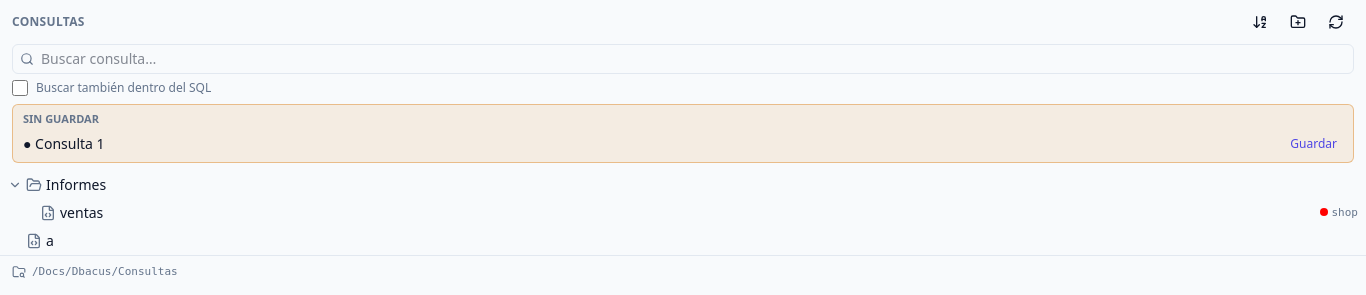
Test case: QueriesPanel › muestra lo que está abierto y sin guardar, y busca por contenido con debounce
Expected: the element with test id "queries-unsaved" shows "Consulta 1", [23, 134, 1280, 154]
Type "total" into the search field with test id "queries-search".
click(683, 59); type("total")  # box [12, 44, 1354, 74]
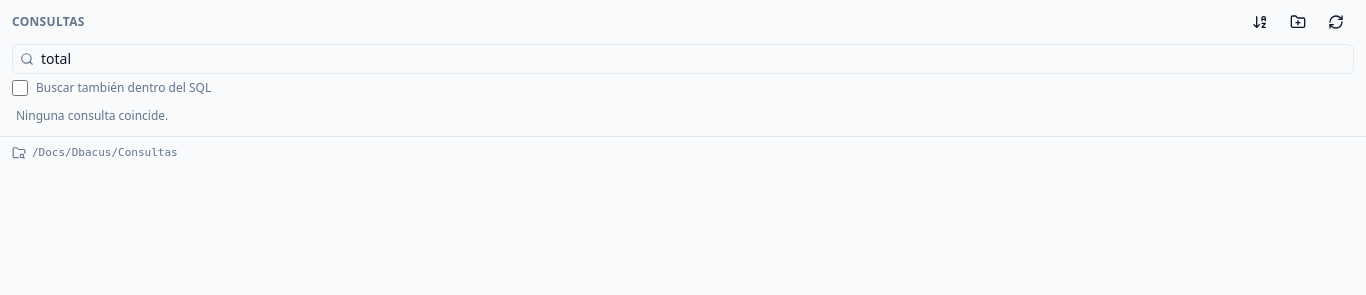
Click the checkbox labelled "Buscar también dentro del SQL".
click(20, 88)  # box [12, 80, 28, 96]
Wait 300 ms
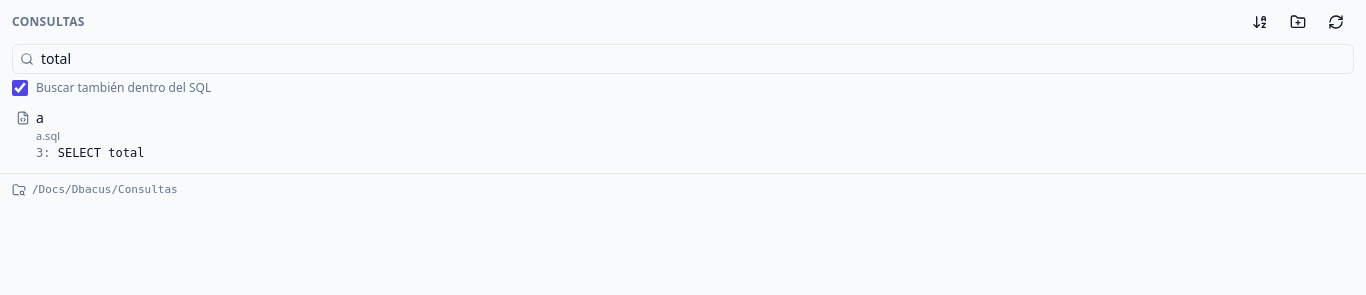
Expected: the list with test id "queries-hits" shows "3: SELECT total", [0, 104, 1365, 172]
